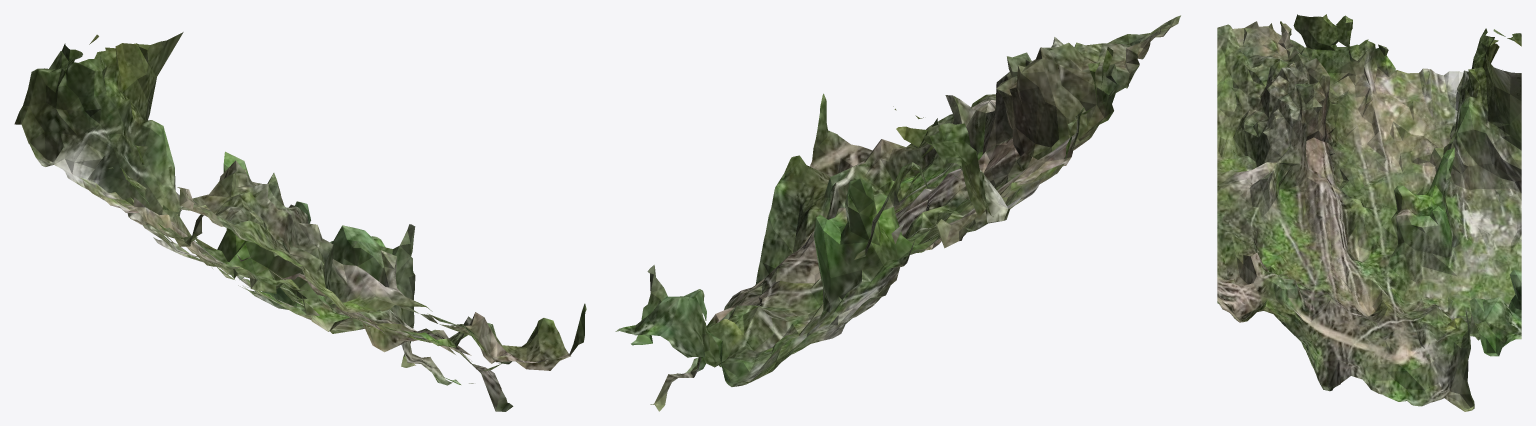
3 renders of one model, left to right at view 1: azimuth 30°, elevation 25°; view 2: azimuth 150°, elevation 25°; view 3: azimuth 270°, elevation 25°, orthographic. The views are drawn at different scales.
Bounding box in the file's own units: 5.9 × 5.8 × 5.9.
Materials: 4 (4 with a texture image).
